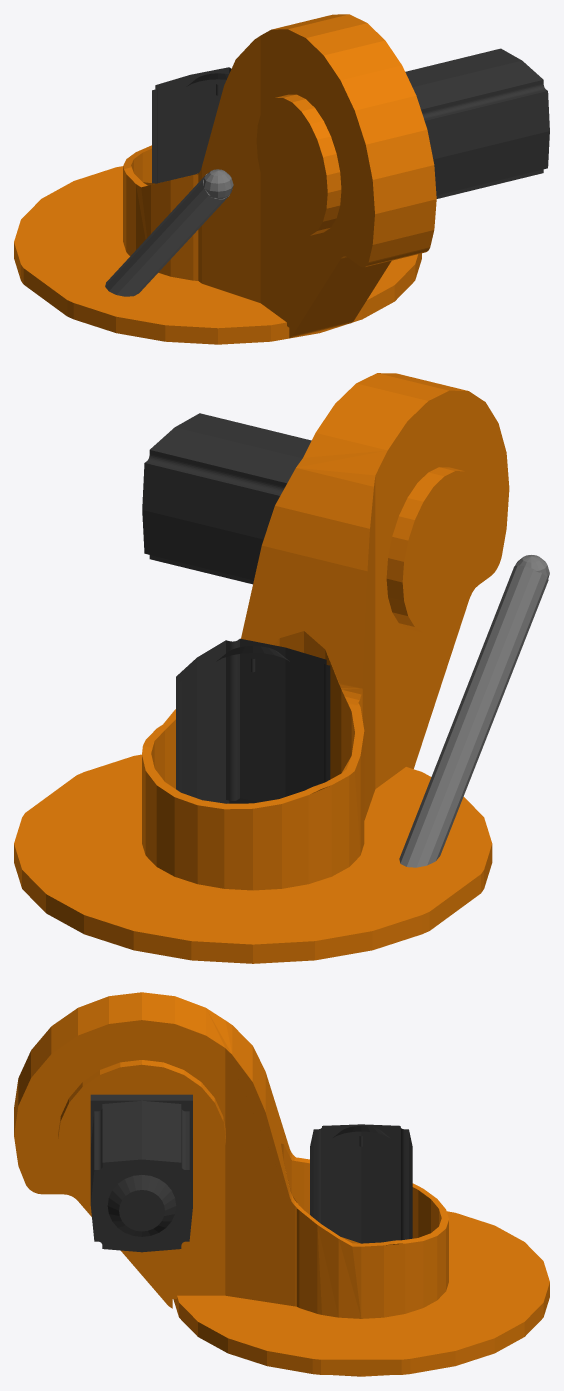
3 renders of one model, top to bottom at view 1: azimuth 30°, elevation 25°; view 2: azimuth 150°, elevation 25°; view 3: azimuth 270°, elevation 25°, orthographic. The views are drawn at different scales.
Parts seen in each view (by area): view 1: body_mesh_, motor_mesh_.001, motor_mesh_.002, rod_mesh_.001; view 2: body_mesh_, motor_mesh_.002, motor_mesh_.001, rod_mesh_.001; view 3: body_mesh_, motor_mesh_.001, motor_mesh_.002.
Boxes of the visible parts, box(x1,y1,x2,y2) form: body_mesh_: box(14, 14, 436, 344); motor_mesh_.001: box(405, 48, 549, 198); motor_mesh_.002: box(152, 67, 231, 183); rod_mesh_.001: box(105, 169, 233, 296); body_mesh_: box(14, 373, 509, 963); motor_mesh_.002: box(176, 638, 330, 803); motor_mesh_.001: box(142, 413, 311, 584); rod_mesh_.001: box(399, 555, 549, 867); body_mesh_: box(14, 992, 549, 1376); motor_mesh_.001: box(90, 1094, 192, 1252); motor_mesh_.002: box(310, 1124, 412, 1243).
Size of the model in its own units: 0.5387 by 0.472 by 0.733.
